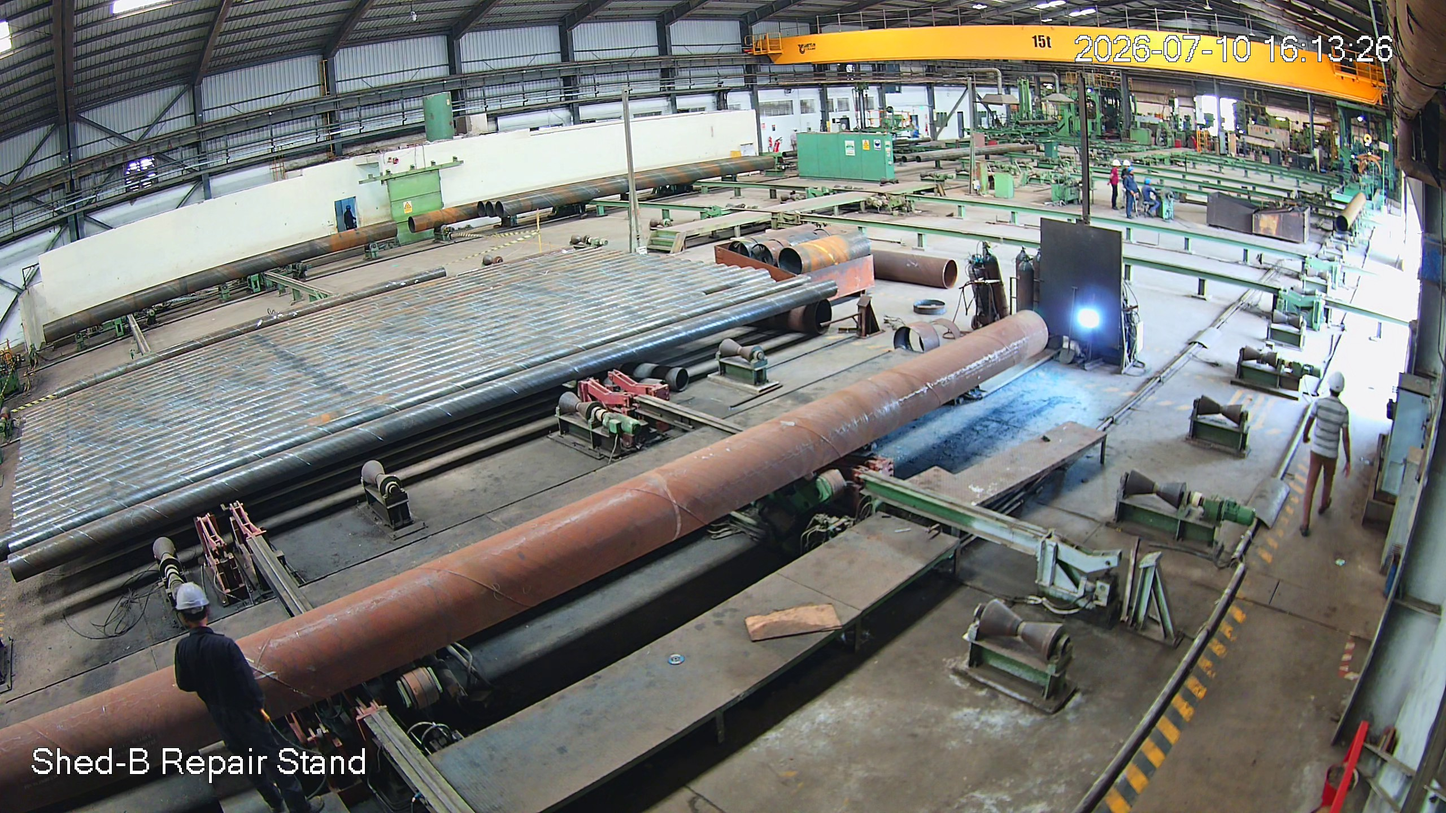Helmet: (168, 578, 235, 648), (1319, 369, 1356, 420)
Person: (162, 580, 306, 813), (1291, 372, 1363, 544)
